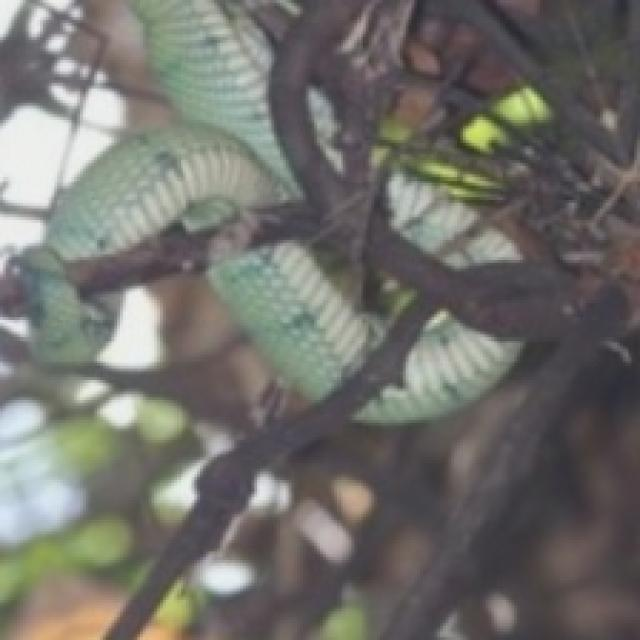north ph temple pitviper: (20, 0, 299, 364), (212, 241, 380, 398), (360, 311, 520, 421), (357, 311, 517, 420), (394, 172, 519, 267)
